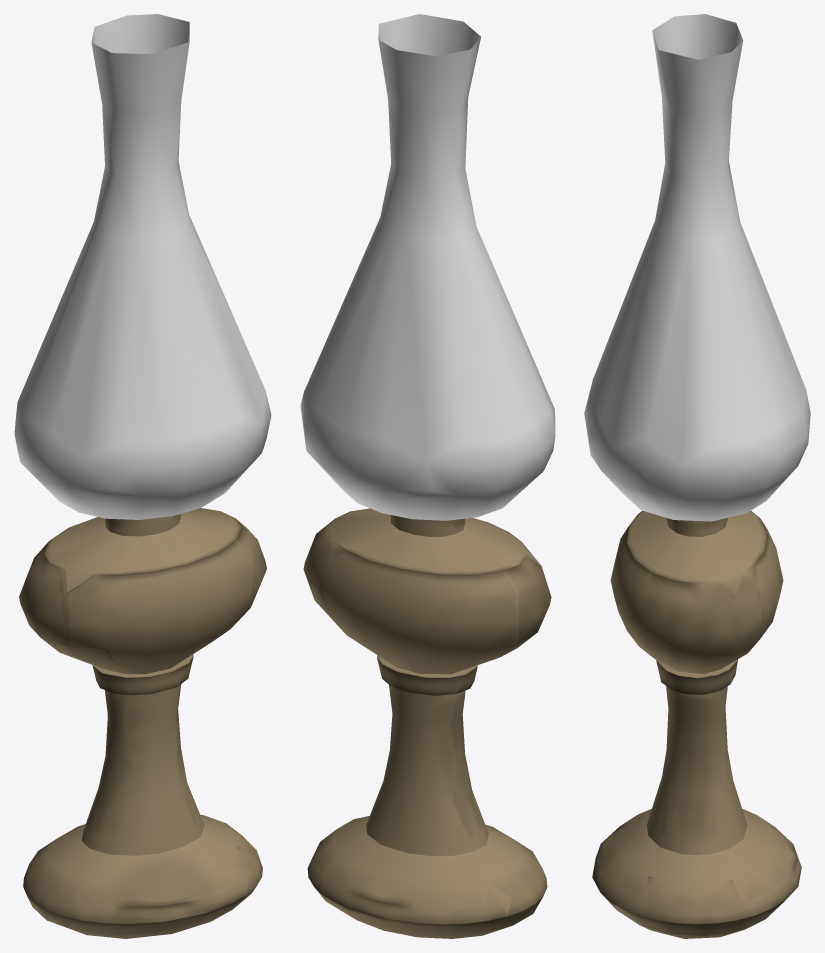
File: Standing Lamp.fbx
3 renders of one model, left to right at view 1: azimuth 30°, elevation 25°; view 2: azimuth 150°, elevation 25°; view 3: azimuth 270°, elevation 25°, orthographic.
Parts seen in each view (by area): view 1: Cylinder.013; view 2: Cylinder.013; view 3: Cylinder.013.
Part boxes in pixels (x1=…): Cylinder.013: x1=14, y1=14, x2=271, y2=938; Cylinder.013: x1=300, y1=14, x2=555, y2=938; Cylinder.013: x1=584, y1=14, x2=810, y2=938.
Size of the model in its own units: 38.66 by 138 by 32.93.
